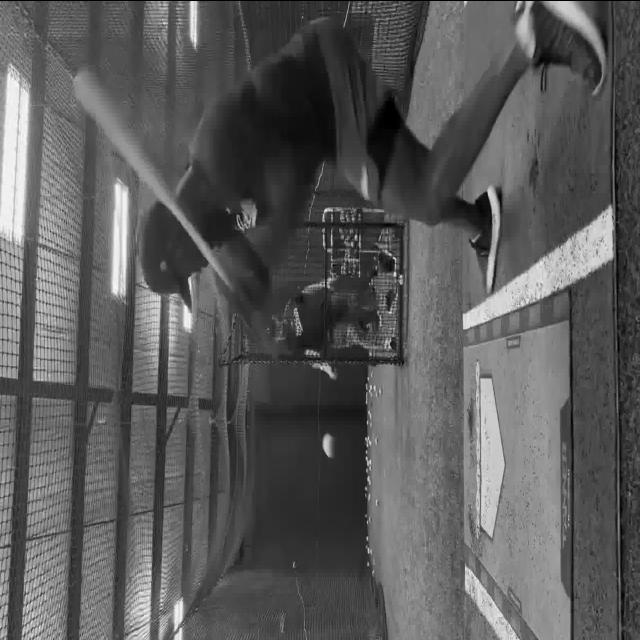baseball: (322, 432, 336, 458)
bat: (71, 69, 252, 327)
shoe: (514, 1, 608, 96), (469, 184, 501, 294), (384, 337, 397, 352), (384, 292, 392, 312)
